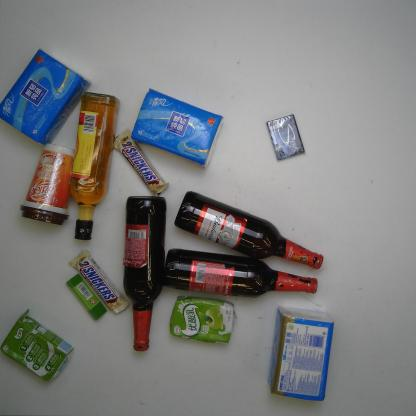Alcohol: (172, 189, 324, 272), (162, 245, 320, 300), (121, 195, 168, 352)
Chocolate: (67, 248, 129, 316), (112, 127, 171, 198)
Gum: (265, 112, 306, 162)
Instant Drink: (18, 141, 76, 228)
Milk: (1, 308, 75, 384), (168, 293, 238, 347)
Seasoner: (67, 89, 121, 242)
Stationery: (65, 272, 108, 322)
Tissue: (0, 47, 92, 146), (128, 86, 226, 171), (264, 304, 338, 404)
